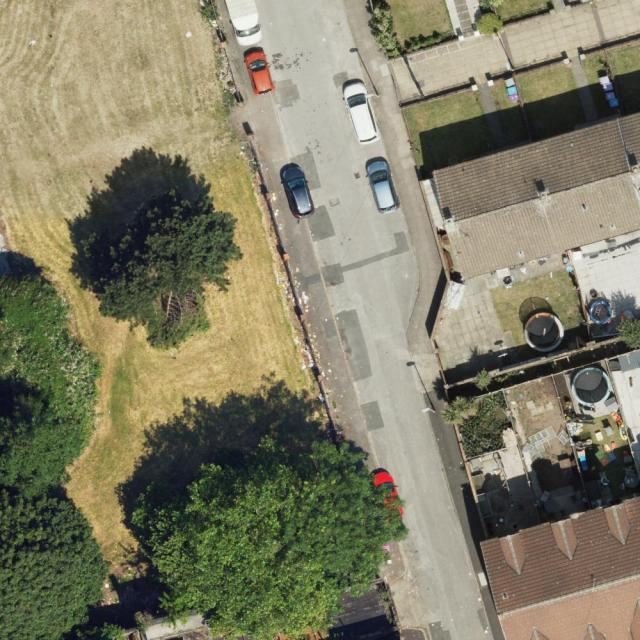roof: (430, 110, 640, 282), (480, 495, 640, 640)
